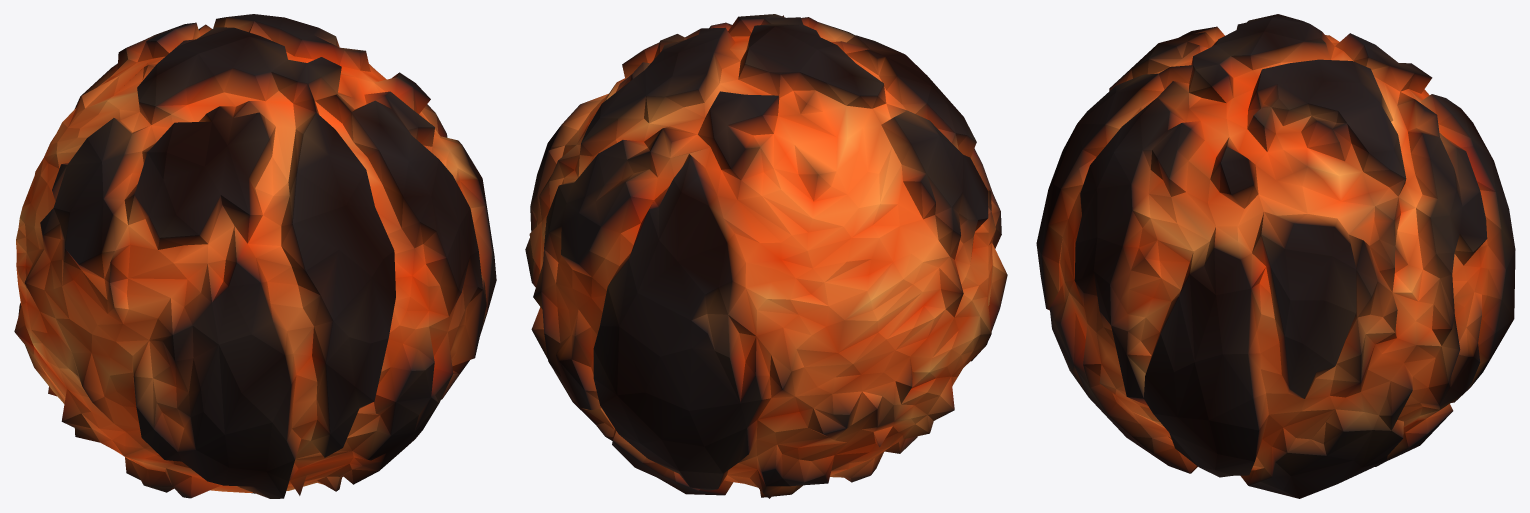
The model's file is Planet.fbx.
3 renders of one model, left to right at view 1: azimuth 30°, elevation 25°; view 2: azimuth 150°, elevation 25°; view 3: azimuth 270°, elevation 25°, orthographic. The views are drawn at different scales.
Parts seen in each view (by area): view 1: filecache1; view 2: filecache1; view 3: filecache1.
Boxes of the visible parts, x1,y1,x2,y2 form: filecache1: [14, 14, 496, 498]; filecache1: [525, 14, 1007, 498]; filecache1: [1036, 14, 1515, 498].
Bounding box in the file's own units: 2.15 × 2.2 × 2.19.
